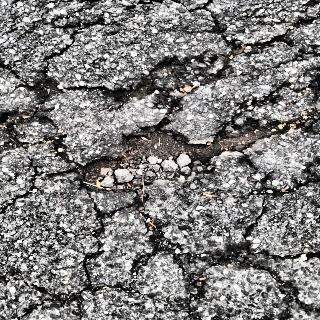crack: (8, 7, 316, 316)
